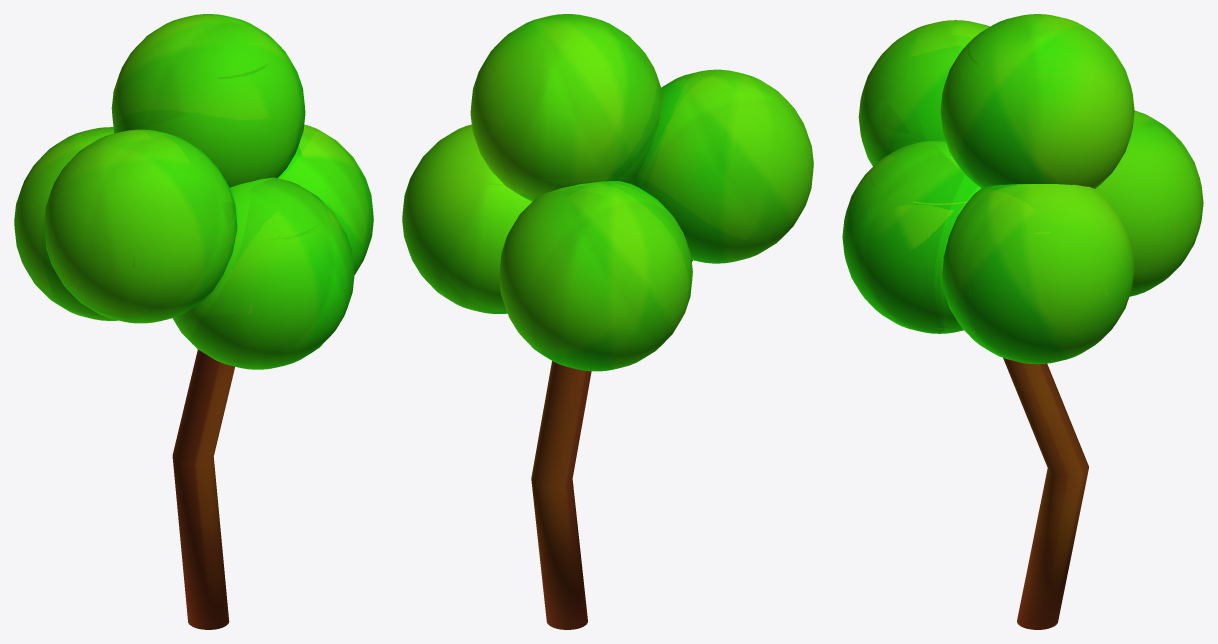
Rendered from Tree.fbx.
3 views of the same model, side by side, from view 1: azimuth 30°, elevation 25°; view 2: azimuth 150°, elevation 25°; view 3: azimuth 270°, elevation 25° (orthographic).
Parts seen in each view (by area): view 1: Sphere.002; view 2: Sphere.002; view 3: Sphere.002.
Part boxes in pixels (x1=…): Sphere.002: x1=14, y1=14, x2=373, y2=629; Sphere.002: x1=402, y1=14, x2=813, y2=629; Sphere.002: x1=842, y1=14, x2=1203, y2=629.
Bounding box in the file's own units: 411 × 680 × 372.
